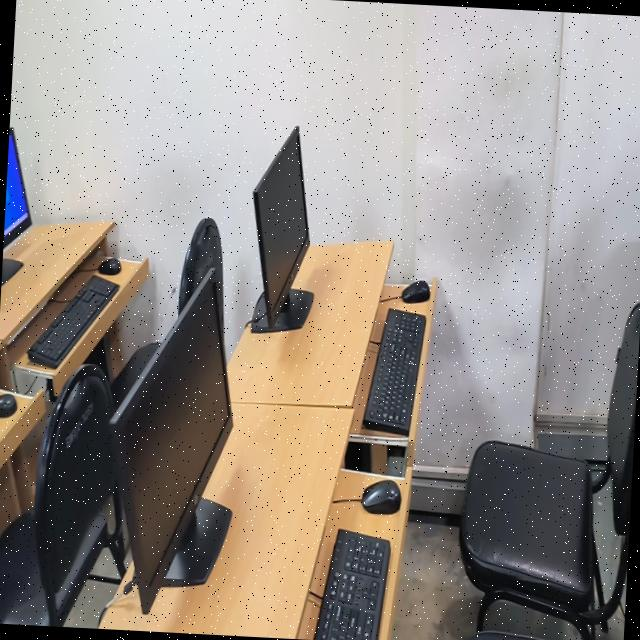Chair: (459, 301, 640, 640), (0, 365, 126, 627), (178, 218, 223, 314), (112, 343, 159, 409)
Keyboard: (313, 530, 391, 640), (28, 277, 118, 369), (364, 310, 426, 436)
Monitor: (110, 269, 232, 614), (253, 126, 310, 326), (3, 129, 32, 250)
Mouse: (361, 480, 401, 514), (402, 280, 430, 303), (98, 258, 121, 275), (0, 394, 17, 417)
